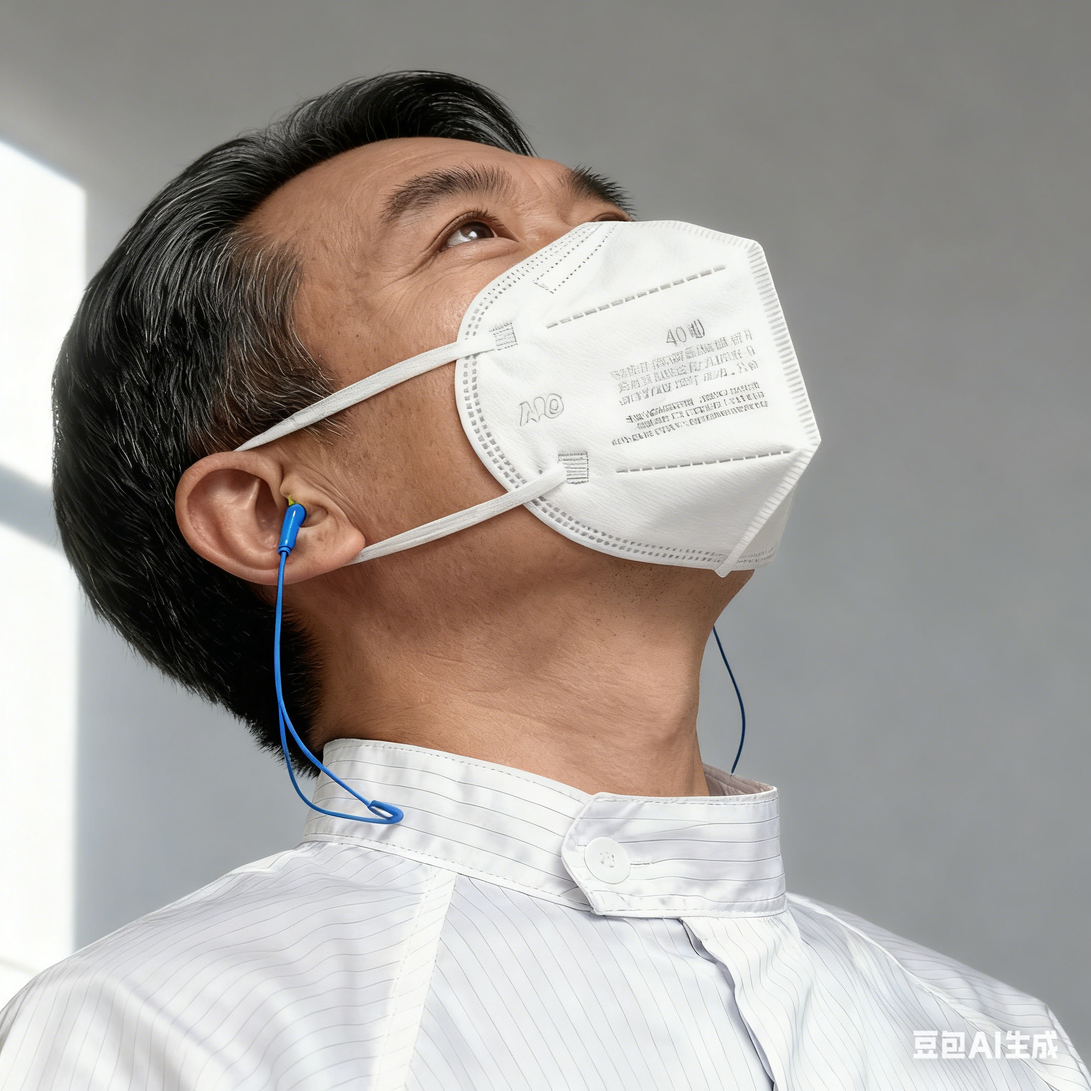MASK: (461, 218, 820, 580)
